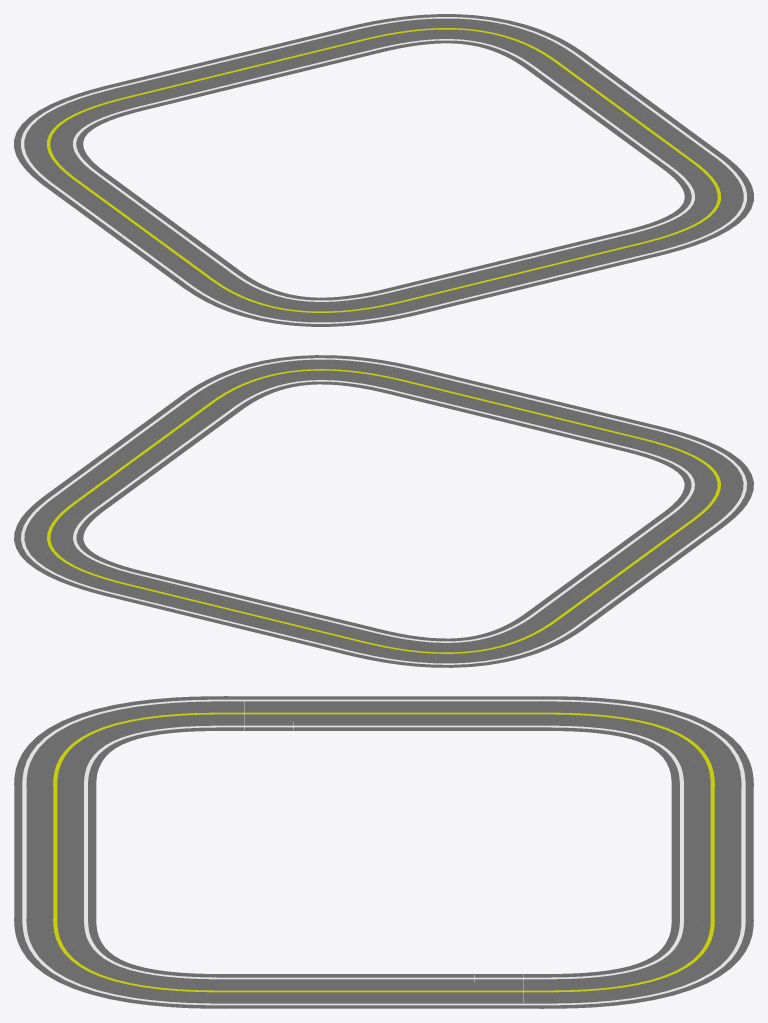
File: SimpleRoad.dae
3 renders of one model, top to bottom at view 1: azimuth 30°, elevation 25°; view 2: azimuth 150°, elevation 25°; view 3: azimuth 270°, elevation 25°, orthographic. The views are drawn at different scales.
Parts seen in each view (by area): view 1: Lane.006, Lane.002, Lane.004, Lane, Lane.003, Lane.007, Lane.005, Lane.001; view 2: Lane.002, Lane.006, Lane.004, Lane, Lane.005, Lane.001, Lane.007, Lane.003; view 3: Lane.006, Lane, Lane.002, Lane.004, Lane.005, Lane.001, Lane.007, Lane.003.
Boxes of the visible parts, left/top/right/bottom form: Lane.006: left=380, top=231, right=653, bottom=313; Lane.002: left=113, top=26, right=387, bottom=109; Lane.004: left=529, top=56, right=721, bottom=172; Lane: left=44, top=171, right=238, bottom=284; Lane.003: left=345, top=14, right=588, bottom=70; Lane.007: left=179, top=270, right=422, bottom=326; Lane.005: left=620, top=154, right=753, bottom=256; Lane.001: left=14, top=84, right=147, bottom=186; Lane.002: left=102, top=569, right=376, bottom=653; Lane.006: left=391, top=369, right=665, bottom=450; Lane.004: left=47, top=393, right=244, bottom=508; Lane: left=522, top=514, right=720, bottom=630; Lane.005: left=181, top=355, right=425, bottom=410; Lane.001: left=342, top=612, right=586, bottom=667; Lane.007: left=623, top=426, right=753, bottom=528; Lane.003: left=14, top=493, right=144, bottom=595; Lane.006: left=14, top=779, right=96, bottom=918; Lane: left=227, top=696, right=556, bottom=730; Lane.002: left=671, top=786, right=753, bottom=925; Lane.004: left=211, top=974, right=540, bottom=1008; Lane.005: left=14, top=918, right=224, bottom=1008; Lane.001: left=543, top=696, right=753, bottom=786; Lane.007: left=14, top=696, right=227, bottom=784; Lane.003: left=540, top=920, right=753, bottom=1008.
Bounding box in the file's own units: 9 × 9 × 0.
